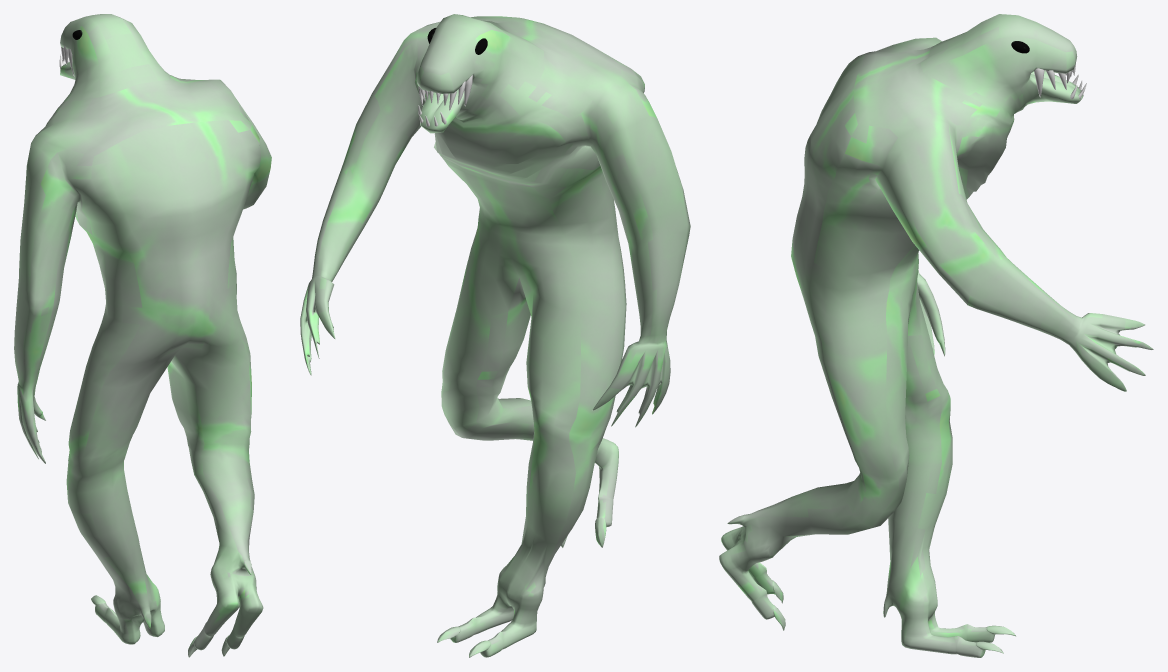
File: Berserkerandar.0049.obj
The picture shows the model from 3 angles, left to right: view 1: azimuth 30°, elevation 25°; view 2: azimuth 150°, elevation 25°; view 3: azimuth 270°, elevation 25°; orthographic projection. The views are drawn at different scales.
Visible parts, largest first — view 1: polySurface27; view 2: polySurface27; view 3: polySurface27.
Boxes of the visible parts, x1,y1,x2,y2 form: polySurface27: (14,14,271,657); polySurface27: (300,14,690,657); polySurface27: (719,14,1153,657).
Size of the model in its own units: 11.32 by 23.46 by 14.64.
1 material, 1 textured.
